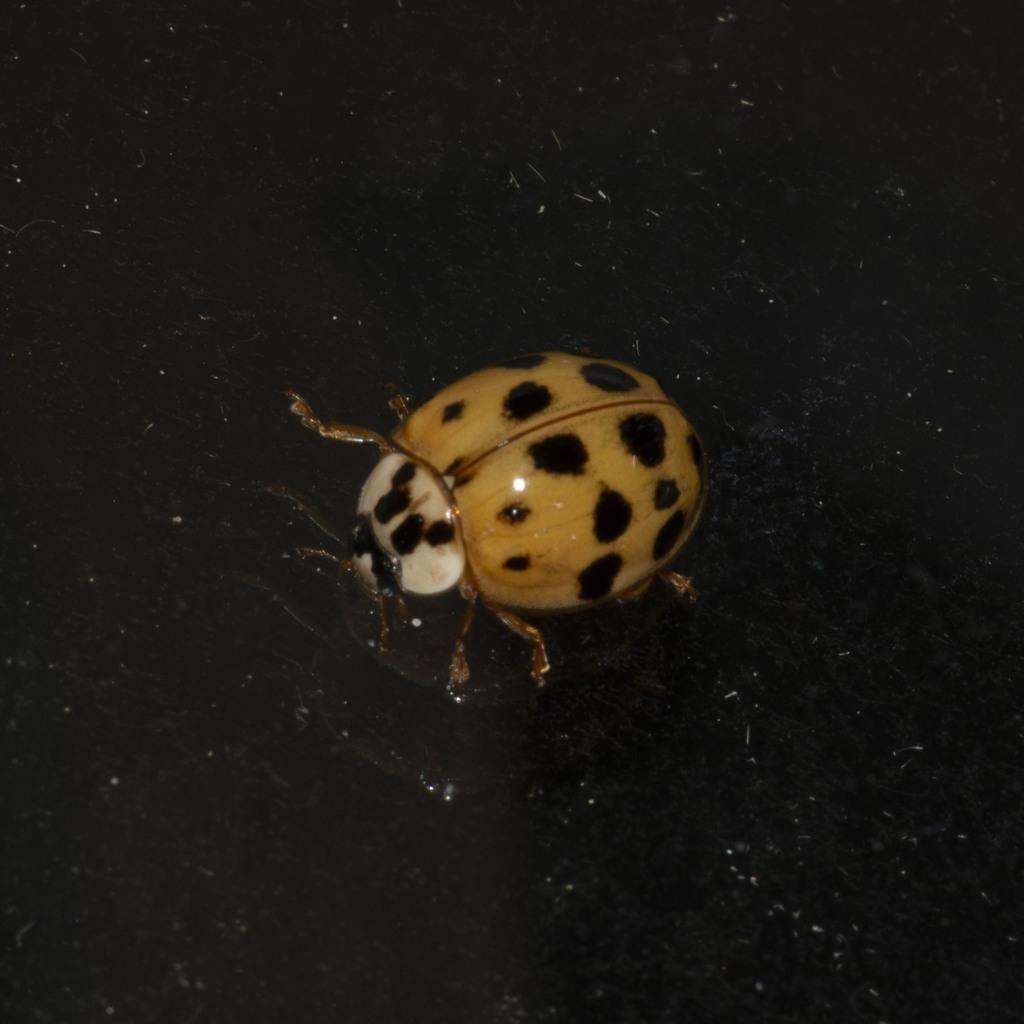ladybug: (281, 341, 716, 709)
